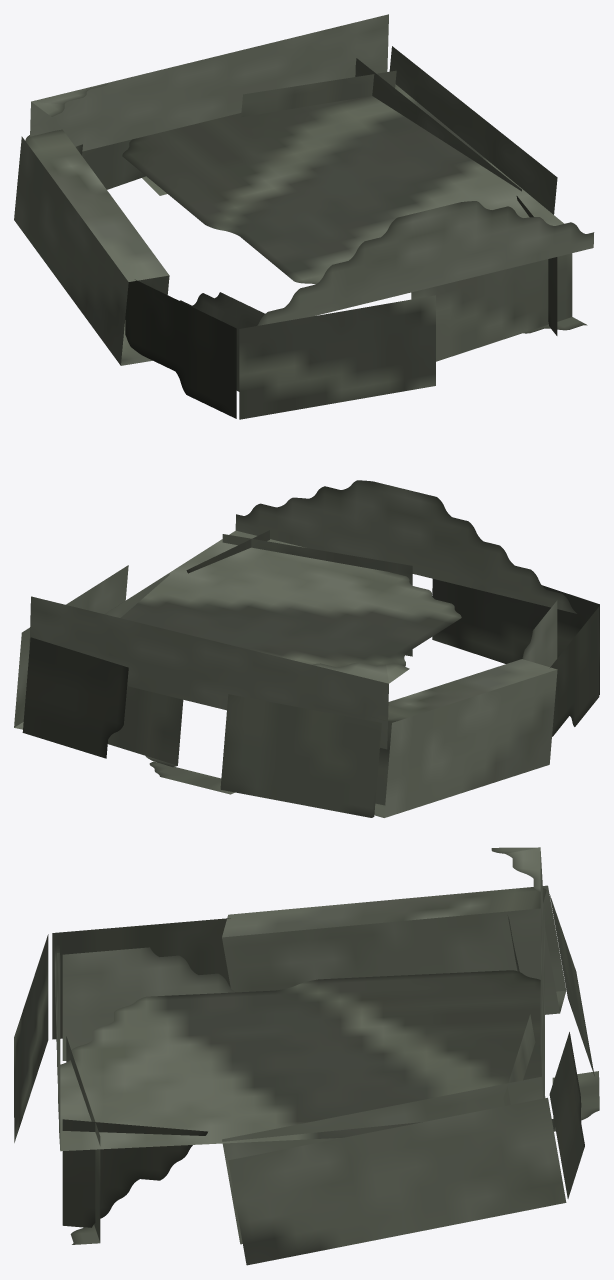
The model's file is pakol_h.obj.
3 renders of one model, top to bottom at view 1: azimuth 30°, elevation 25°; view 2: azimuth 150°, elevation 25°; view 3: azimuth 270°, elevation 25°, orthographic. The views are drawn at different scales.
Parts seen in each view (by area): view 1: mesh; view 2: mesh; view 3: mesh.
Boxes of the visible parts, bbox=[...] form: mesh: bbox=[14, 14, 594, 419]; mesh: bbox=[14, 480, 599, 817]; mesh: bbox=[14, 847, 599, 1265].
Size of the model in its own units: 0.6961 by 0.3088 by 0.7017.
